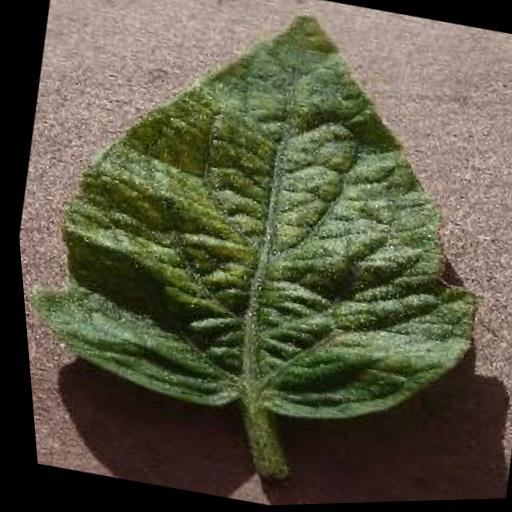Spider Mites: (0, 0, 512, 459)
